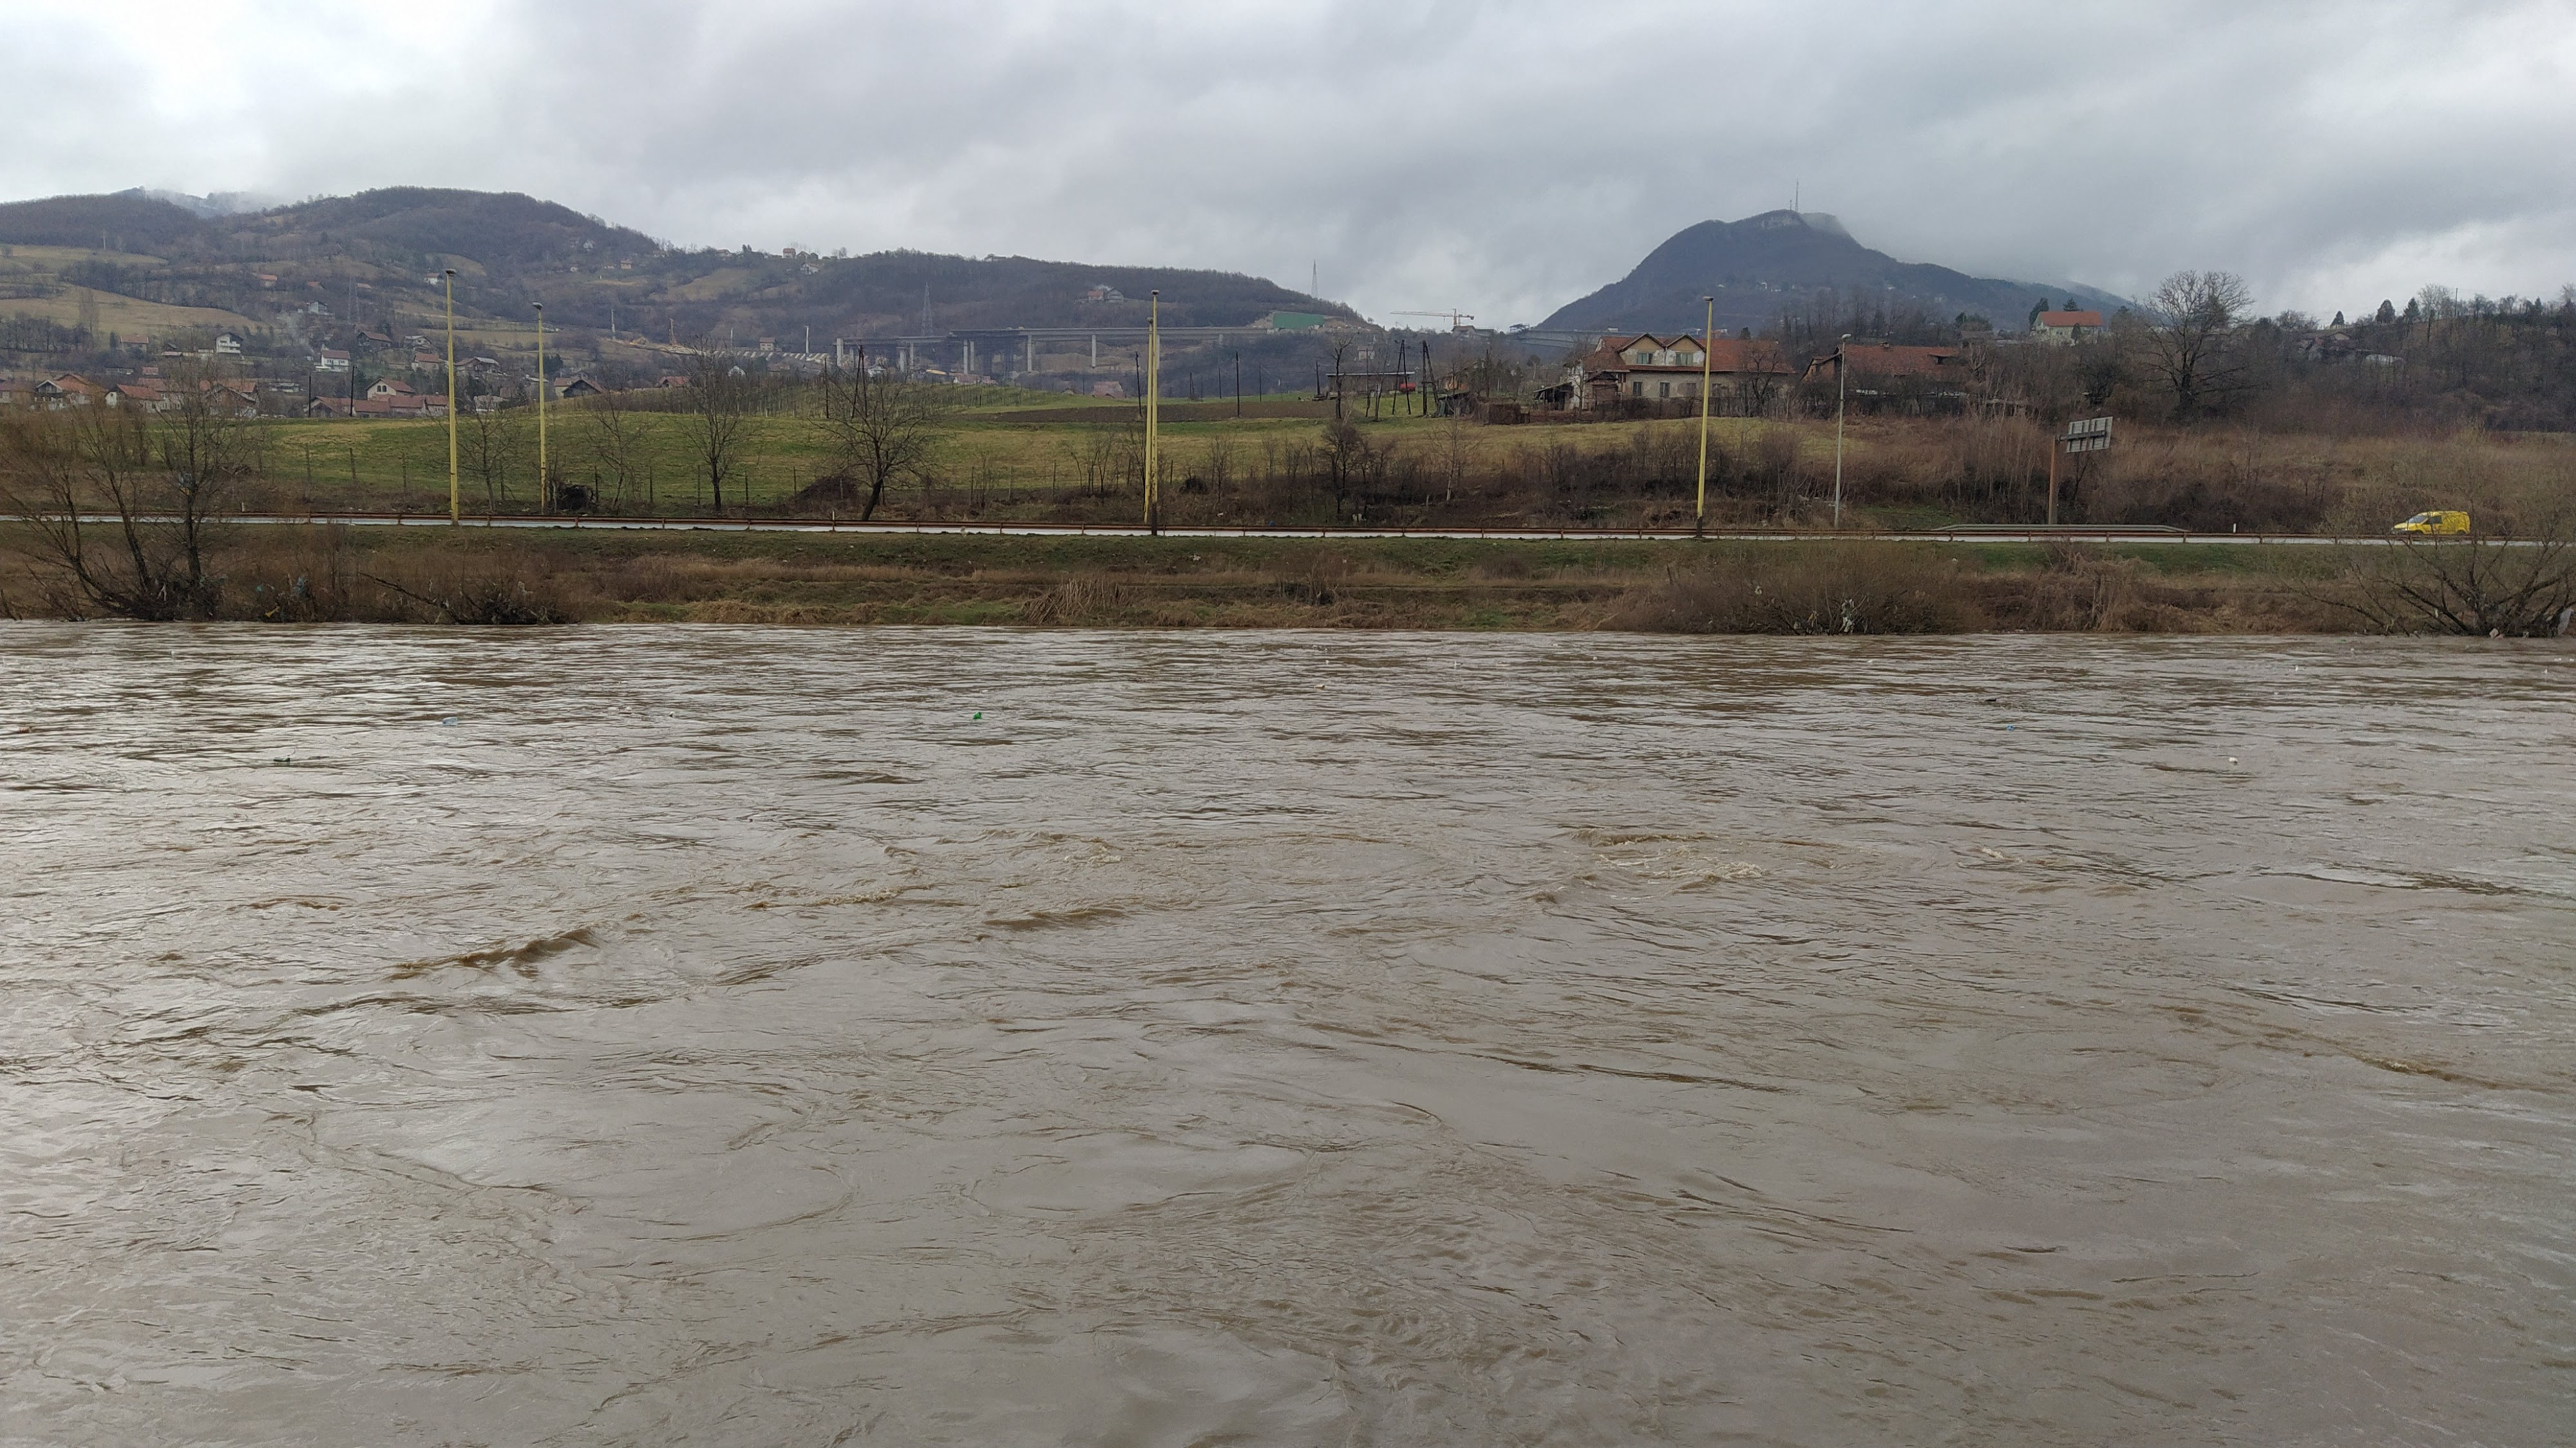Plastic Bottle: (442, 717, 456, 726), (973, 710, 982, 719), (274, 756, 288, 761), (1987, 697, 1997, 703), (609, 706, 617, 712), (1315, 683, 1323, 689), (2008, 726, 2015, 731)
